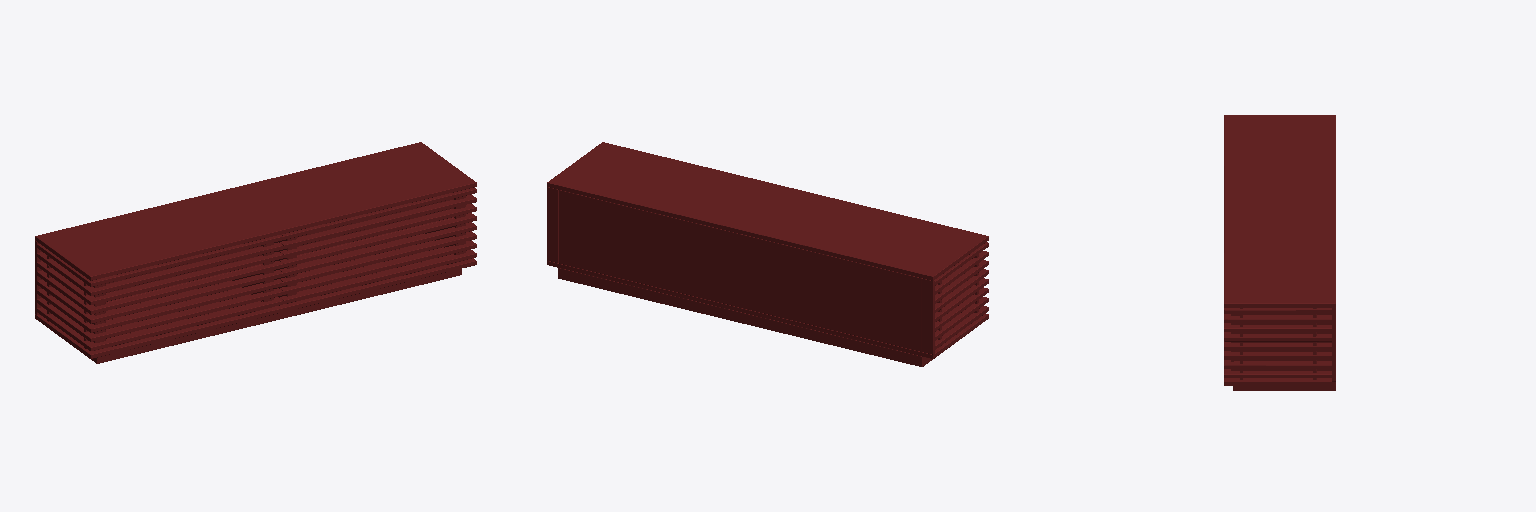
The model's file is tvstand.obj.
3 renders of one model, left to right at view 1: azimuth 30°, elevation 25°; view 2: azimuth 150°, elevation 25°; view 3: azimuth 270°, elevation 25°, orthographic.
Visible parts, largest first — view 1: Rectangle340_Untitled.010, Rectangle345_Untitled.002, Line179_Untitled.003, Line185_Untitled.013, Line184_Untitled.009, Line180_Untitled.014, Line183_Untitled.012, Line182_Untitled.008, Line181_Untitled.006, Line178_Untitled.011, Rectangle344_Untitled.016, Rectangle343_Untitled (+2 smaller); view 2: Rectangle339_Untitled.017, Rectangle340_Untitled.010, Rectangle344_Untitled.016, Rectangle345_Untitled.002, Rectangle348_Untitled.001; view 3: Rectangle340_Untitled.010, Rectangle347_Untitled.007, Rectangle345_Untitled.002, Line181_Untitled.006, Line182_Untitled.008, Line183_Untitled.012, Line184_Untitled.009, Line179_Untitled.003, Line180_Untitled.014, Line185_Untitled.013, Line178_Untitled.011.
Part boxes in pixels (left/top/right/bottom): Rectangle340_Untitled.010: left=35, top=142, right=476, bottom=280; Rectangle345_Untitled.002: left=35, top=233, right=476, bottom=358; Line179_Untitled.003: left=37, top=194, right=476, bottom=295; Line185_Untitled.013: left=37, top=250, right=476, bottom=350; Line184_Untitled.009: left=37, top=240, right=476, bottom=341; Line180_Untitled.014: left=37, top=204, right=476, bottom=304; Line183_Untitled.012: left=37, top=231, right=476, bottom=332; Line182_Untitled.008: left=37, top=222, right=476, bottom=323; Line181_Untitled.006: left=37, top=213, right=476, bottom=314; Line178_Untitled.011: left=37, top=187, right=476, bottom=286; Rectangle344_Untitled.016: left=55, top=269, right=461, bottom=363; Rectangle343_Untitled: left=94, top=196, right=465, bottom=350; Rectangle339_Untitled.017: left=559, top=190, right=921, bottom=351; Rectangle340_Untitled.010: left=547, top=142, right=988, bottom=280; Rectangle344_Untitled.016: left=558, top=268, right=968, bottom=366; Rectangle345_Untitled.002: left=547, top=261, right=988, bottom=358; Rectangle348_Untitled.001: left=547, top=187, right=934, bottom=354; Rectangle340_Untitled.010: left=1224, top=115, right=1335, bottom=307; Rectangle347_Untitled.007: left=1234, top=314, right=1331, bottom=370; Rectangle345_Untitled.002: left=1224, top=378, right=1335, bottom=385; Line181_Untitled.006: left=1224, top=332, right=1331, bottom=341; Line182_Untitled.008: left=1224, top=342, right=1331, bottom=350; Line183_Untitled.012: left=1224, top=351, right=1331, bottom=359; Line184_Untitled.009: left=1224, top=360, right=1331, bottom=368; Line179_Untitled.003: left=1224, top=314, right=1331, bottom=322; Line180_Untitled.014: left=1224, top=323, right=1331, bottom=331; Line185_Untitled.013: left=1224, top=369, right=1331, bottom=377; Line178_Untitled.011: left=1224, top=308, right=1331, bottom=313.
Bounding box in the file's own units: 1.8 × 0.4155 × 0.45.